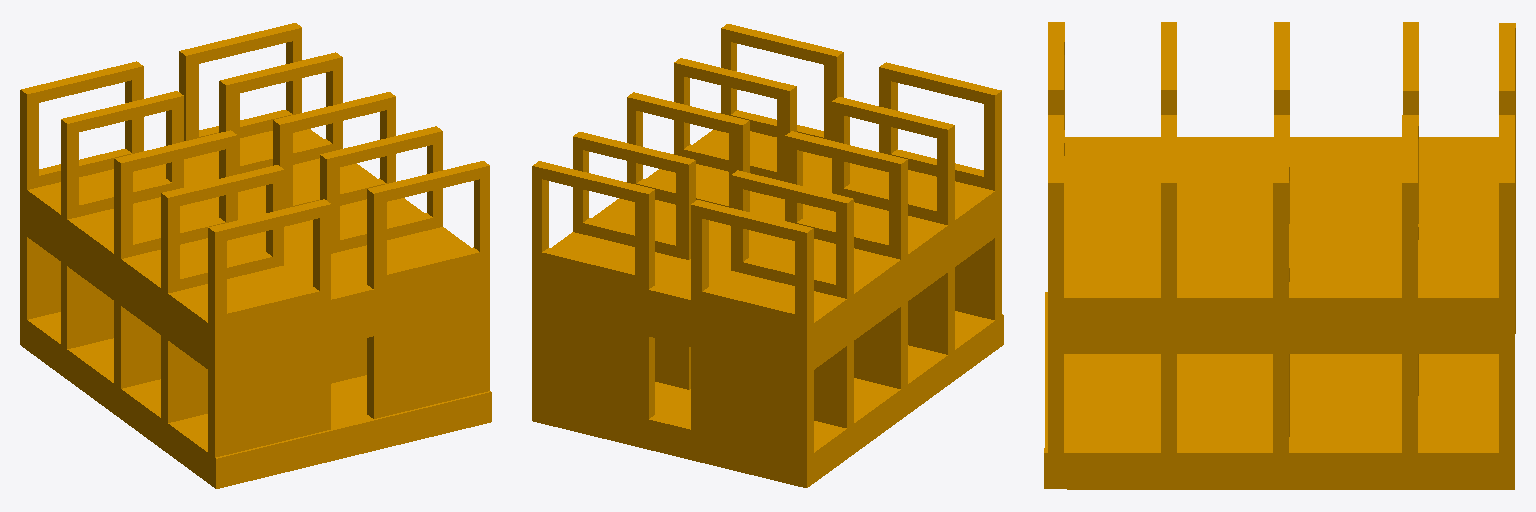
robot.urdf — ncf_dishrack:
<?xml version="1.0"?>
<robot name="ncf_dishrack">
  <link name="ncf_dishrack">
    <visual>
      <origin xyz="0 0 0" rpy="0 0 3.14"/>
      <geometry>
        <mesh filename="../mesh/ncf_mug_cupholder/dishrack/dishrack.obj" scale="1.0 1.0 1.0"/>
      </geometry>
    </visual>
    <collision>
      <origin xyz="0 0 0" rpy="0 0 3.14"/>
      <geometry>
        <mesh filename="../mesh/ncf_mug_cupholder/dishrack/dishrack.obj" scale="1.0 1.0 1.0"/>
      </geometry>
      <sdf resolution="256"/>
    </collision>
    <!-- <inertial>
      <mass value="0.102"/>
      <inertia ixx="0.0001" ixy="0.0" ixz="0.0" iyy="0.0001" iyz="0.0" izz="0.0001"/>
    </inertial> -->
  </link>
</robot>

--- Facts derived from the render (not from the file) ---
The picture shows the robot from 3 angles, left to right: view 1: azimuth 30°, elevation 25°; view 2: azimuth 150°, elevation 25°; view 3: azimuth 270°, elevation 25°; orthographic projection.
Model ncf_dishrack with 1 links and 0 joints (none), rooted at ncf_dishrack, posed all joints at 0.
Visible links, largest first — view 1: ncf_dishrack; view 2: ncf_dishrack; view 3: ncf_dishrack.
Link boxes in pixels (x1,y1,x2,y2): ncf_dishrack: (20,23,491,488); ncf_dishrack: (532,24,1003,487); ncf_dishrack: (1044,22,1515,489).
Bounding box of the posed robot: 0.2367 × 0.2925 × 0.21 m (x, y, z).
1 mesh visuals loaded from 1 distinct referenced files (1 OBJ).